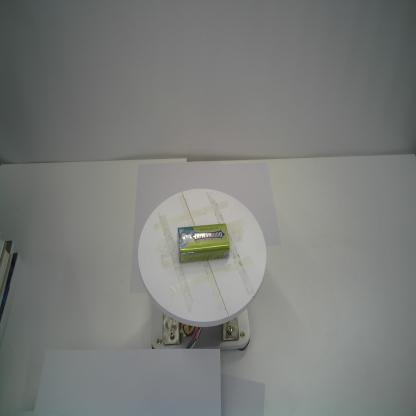Gum: (176, 222, 231, 264)
